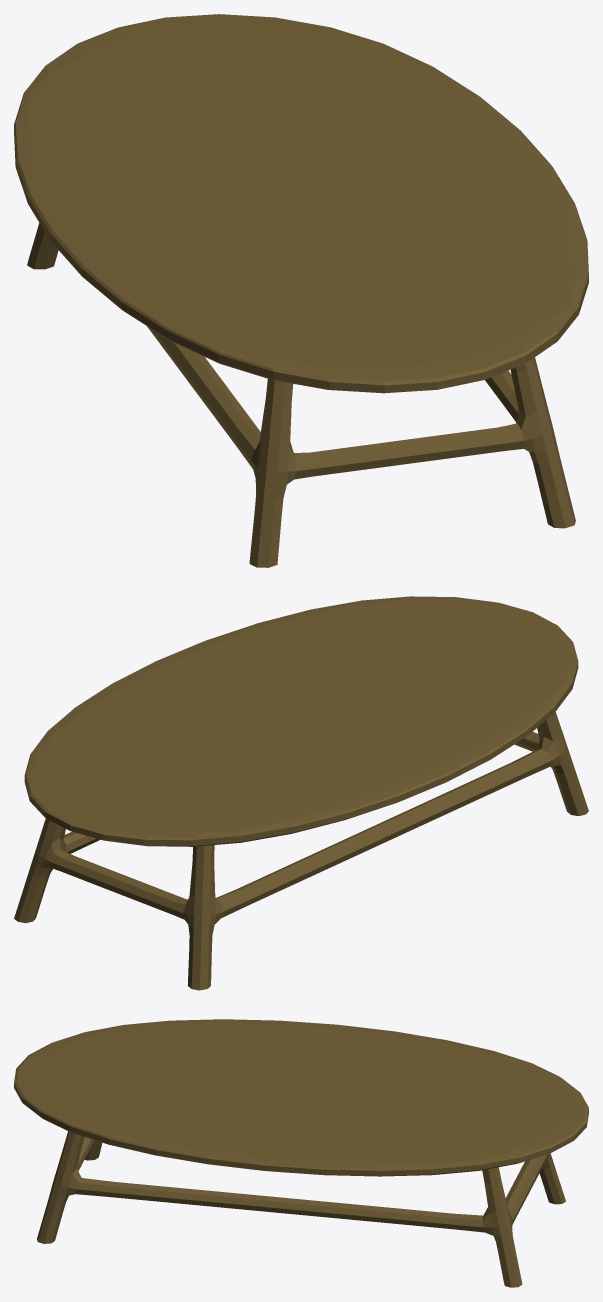
Rendered from masa sufragerie.fbx.
3 views of the same model, one above another, from view 1: azimuth 30°, elevation 25°; view 2: azimuth 150°, elevation 25°; view 3: azimuth 270°, elevation 25° (orthographic). The views are drawn at different scales.
Visible parts, largest first — view 1: Cube.031; view 2: Cube.031; view 3: Cube.031.
Boxes of the visible parts, x1=… form: Cube.031: x1=14, y1=14, x2=588, y2=567; Cube.031: x1=14, y1=596, x2=588, y2=990; Cube.031: x1=14, y1=1019, x2=588, y2=1287.
Bounding box in the file's own units: 140 × 55.05 × 225.
